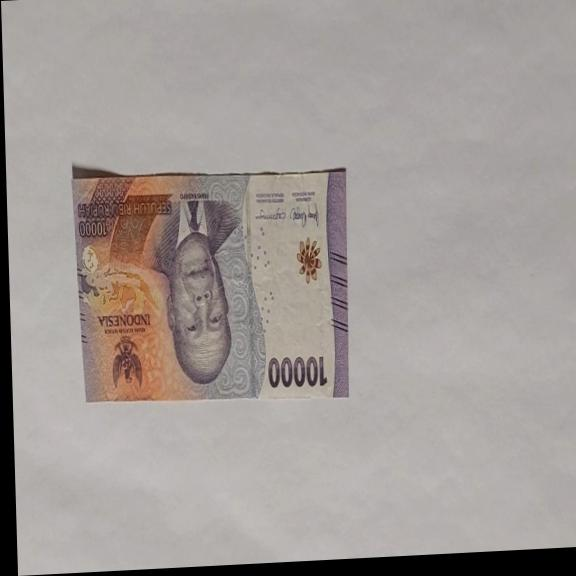Kertas: (71, 159, 352, 414), (266, 352, 328, 392)
